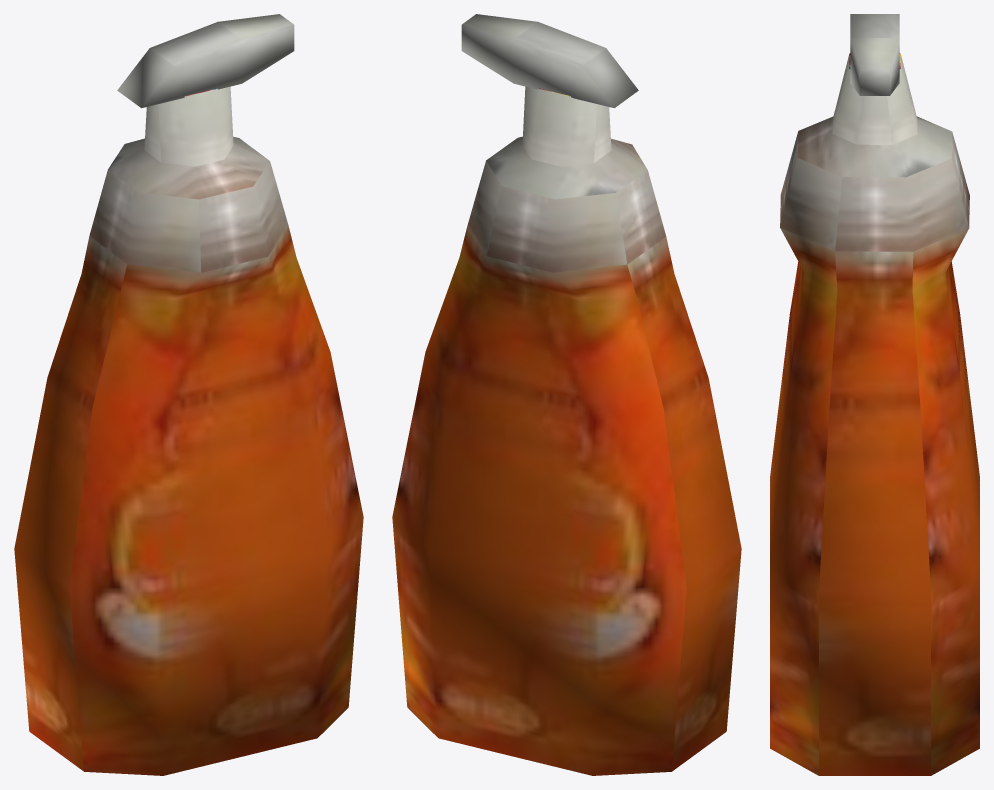
The model's file is Hand_soap.glb.
3 renders of one model, left to right at view 1: azimuth 30°, elevation 25°; view 2: azimuth 150°, elevation 25°; view 3: azimuth 270°, elevation 25°, orthographic. The views are drawn at different scales.
Visible parts, largest first — view 1: Hand_soap; view 2: Hand_soap; view 3: Hand_soap.
Part boxes in pixels (<box>): Hand_soap: <box>14,14,363,775</box>; Hand_soap: <box>392,14,741,775</box>; Hand_soap: <box>770,14,979,775</box>.
Bounding box in the file's own units: 0.084 × 0.1851 × 0.0509.
Materials: 1 (1 with a texture image).
